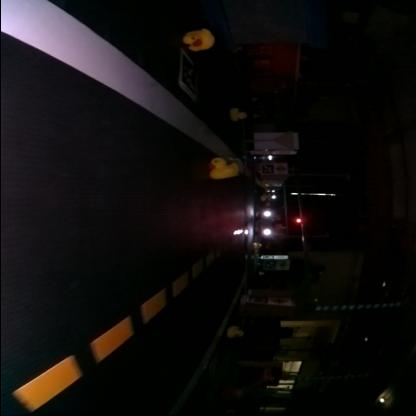Duckie: (184, 27, 216, 48), (213, 157, 237, 177), (227, 325, 245, 336), (231, 108, 247, 118), (253, 242, 263, 249)
Duckiebot: (254, 210, 279, 236)
QR code: (262, 164, 274, 173)
Traffic light: (295, 217, 303, 223)
